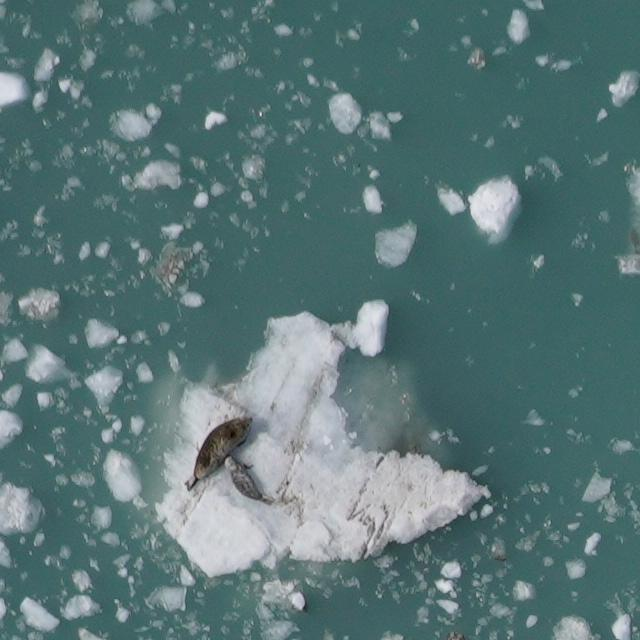seal: (168, 405, 261, 495), (218, 446, 279, 519)
